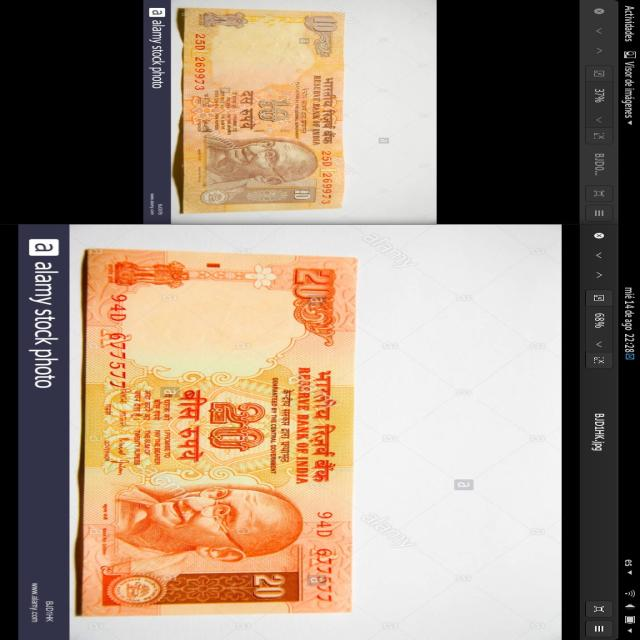20IndianRupees: (92, 253, 361, 609)
